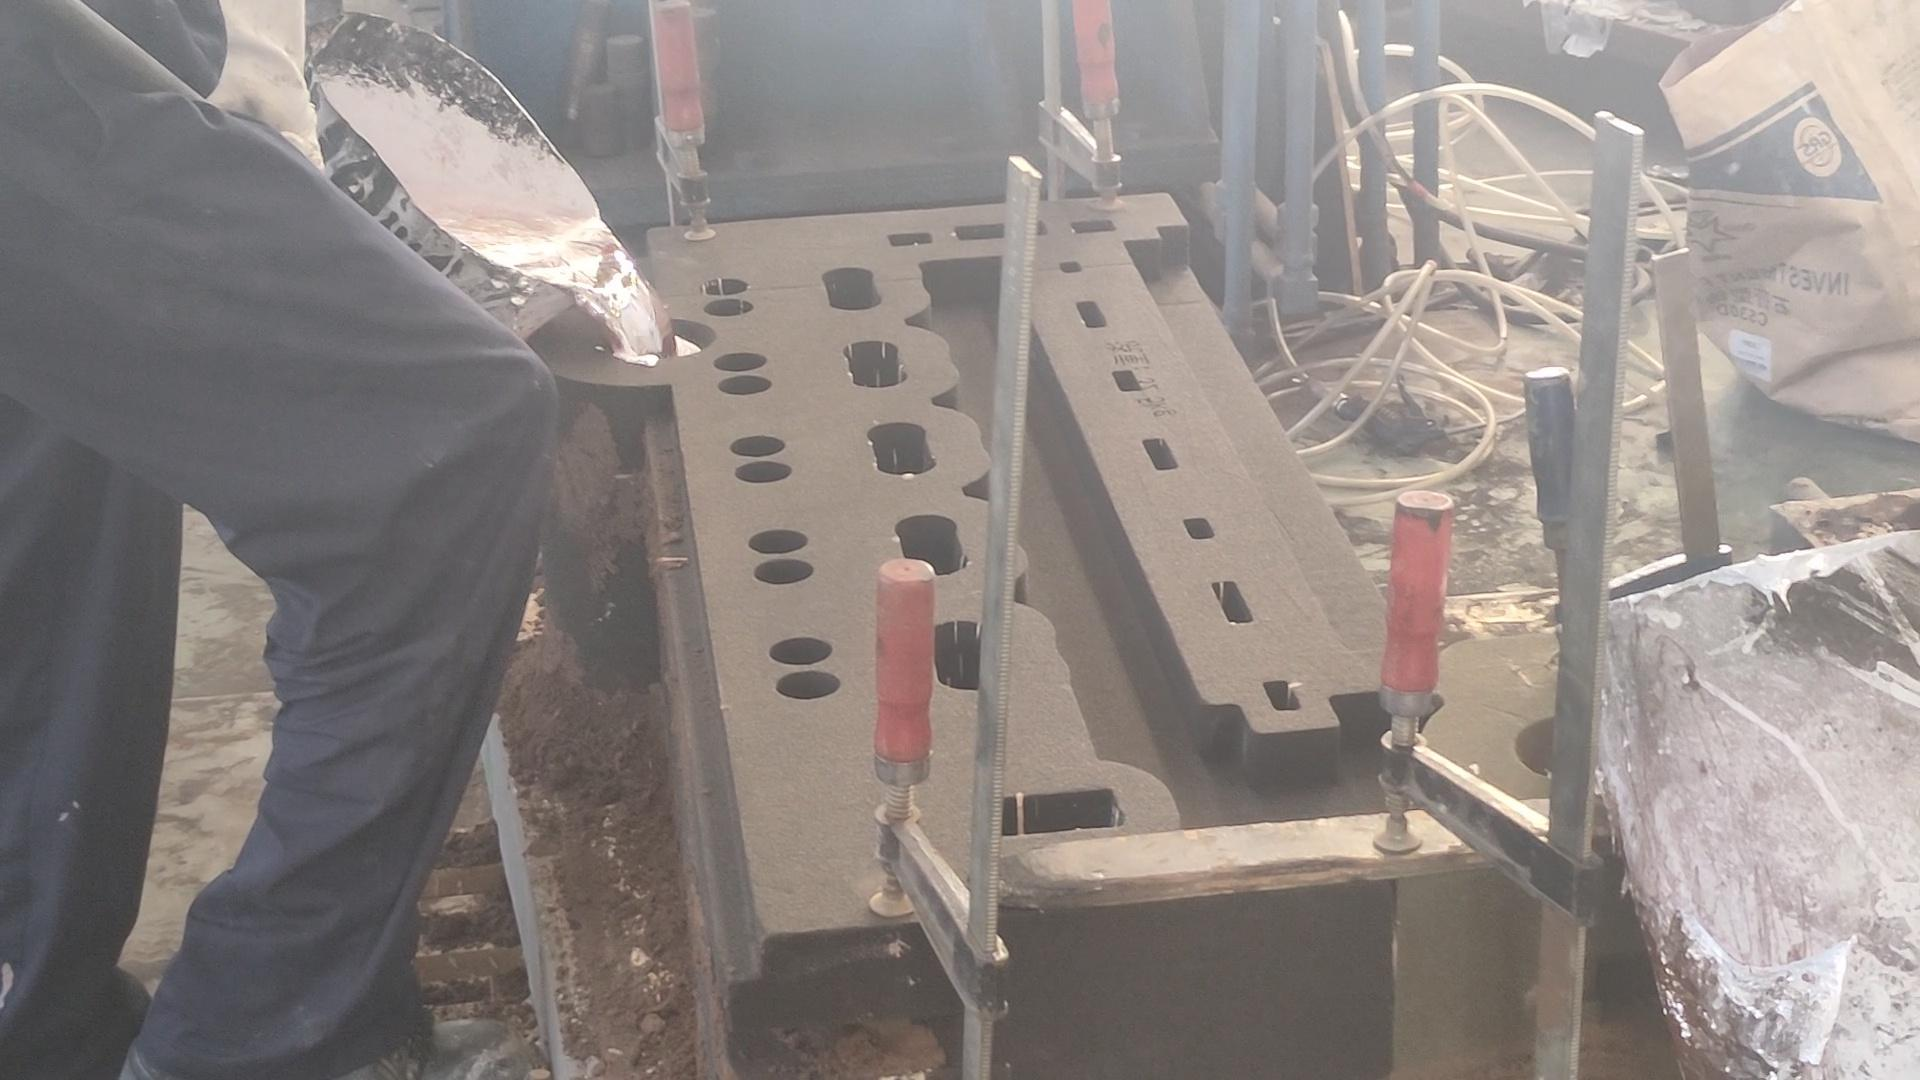pouring hole: (1514, 712, 1615, 775), (595, 313, 717, 360)
